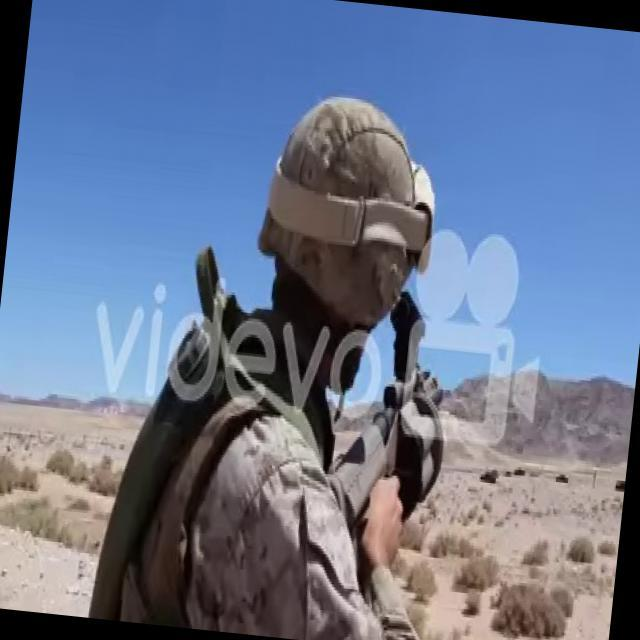rocket: (330, 291, 460, 531)
